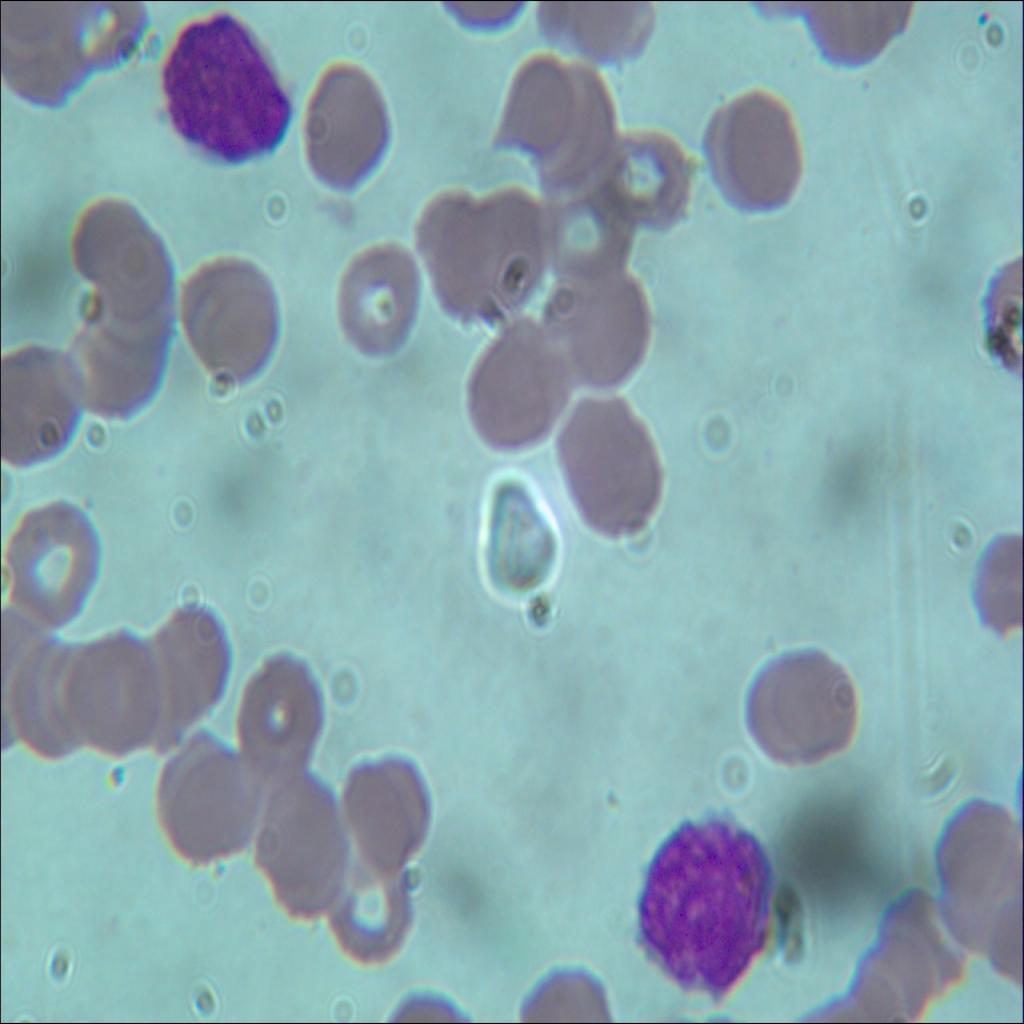Eritrosit: (542, 385, 674, 552), (411, 178, 541, 328), (742, 634, 863, 780), (453, 308, 563, 456), (178, 248, 281, 394), (256, 774, 355, 922), (295, 62, 395, 205), (68, 624, 166, 767), (158, 742, 268, 868), (706, 86, 803, 228), (931, 788, 1023, 936), (0, 494, 99, 631), (538, 272, 648, 387), (516, 58, 613, 188), (0, 338, 86, 477), (0, 627, 86, 765), (238, 644, 324, 781), (146, 598, 234, 731), (341, 754, 438, 872), (538, 177, 638, 291), (76, 192, 170, 311), (335, 238, 424, 360), (60, 327, 154, 431), (598, 124, 688, 231), (333, 844, 415, 958), (82, 298, 163, 399), (886, 891, 966, 992)
Limfoblast: (634, 792, 772, 998), (156, 8, 298, 168)
Platelet: (969, 0, 989, 31)
